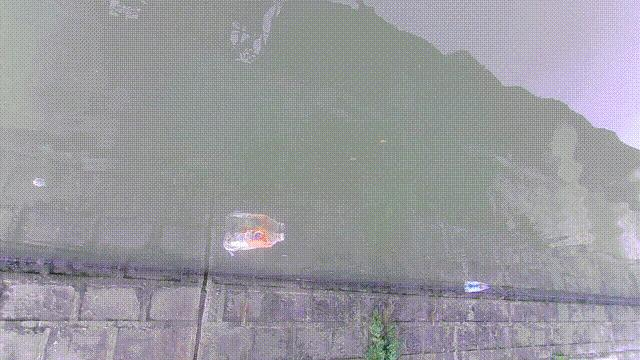Plastic: (221, 226, 287, 256), (464, 278, 490, 295)
